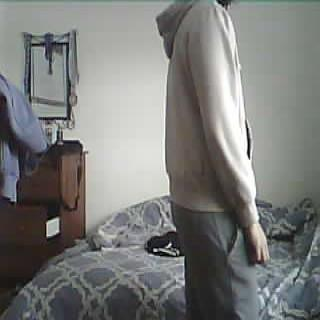Gray Sweatpants: (165, 204, 272, 320)
Yellow Hoodie: (152, 5, 266, 214)
